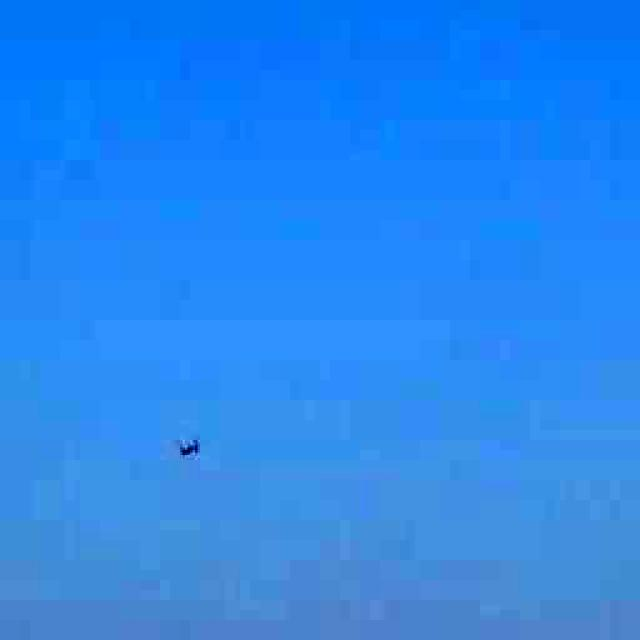bird: (155, 425, 218, 475)
